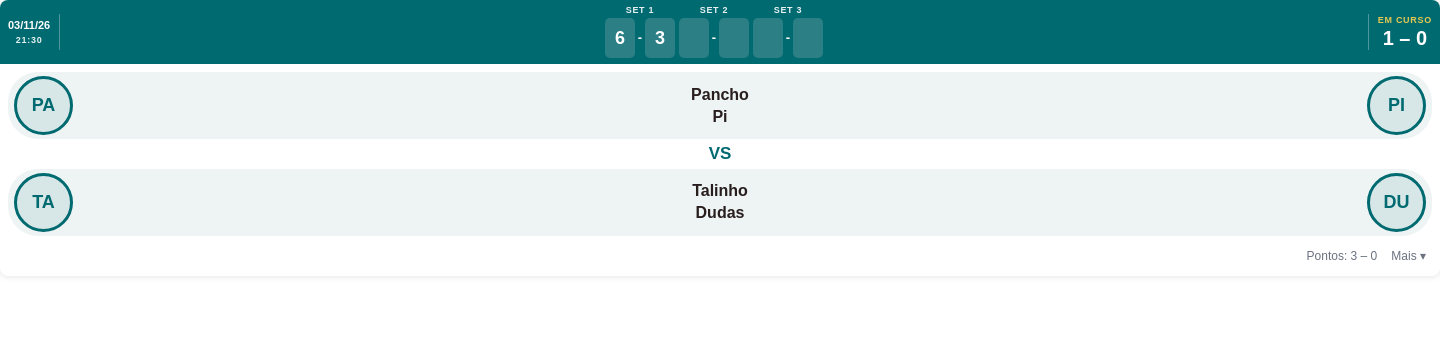
Test case: ResultCard › a non-terminal score shows the TE label and the hint before saving, later set disabled
This screenshot has width=1440, height=360.
Type "4" into the field named "Set 2 casa".
click(694, 38); type("4")  # box [679,18,709,58]
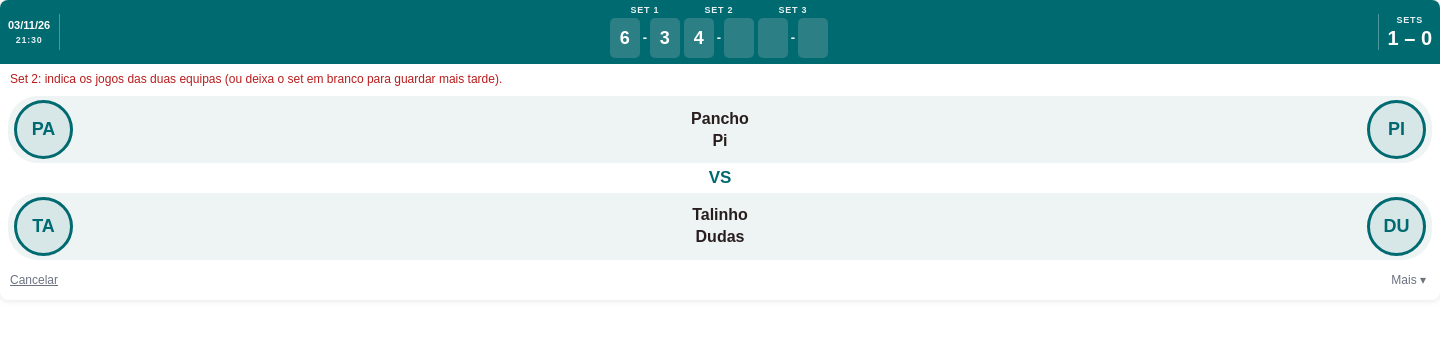
Type "4" into the field named "Set 2 fora".
click(739, 38); type("4")  # box [724,18,754,58]
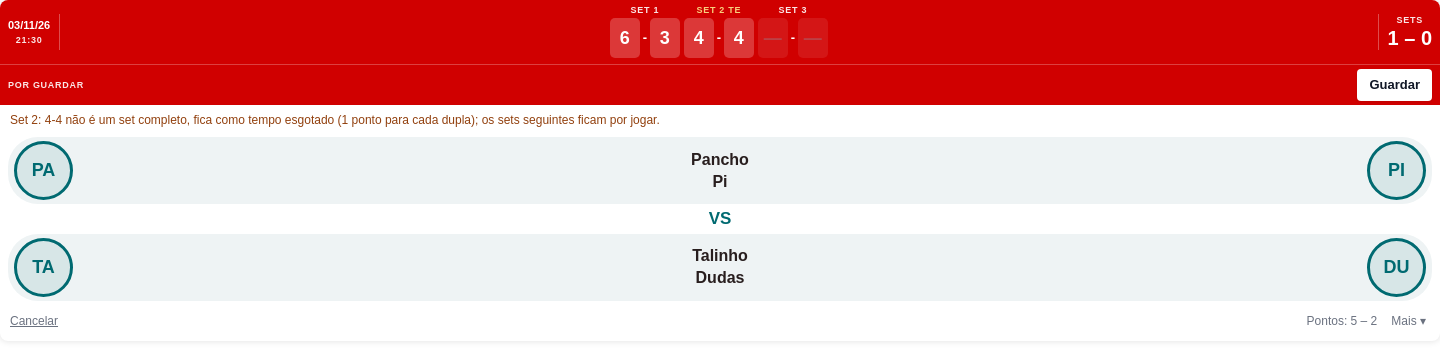
Expected: the text "Set 2 TE" is shown, [696,6,741,15]
Expected: the text "4-4 não é um set completo" is shown, [10,113,660,127]
Expected: the field named "Set 3 casa" is disabled, [758,18,788,58]
